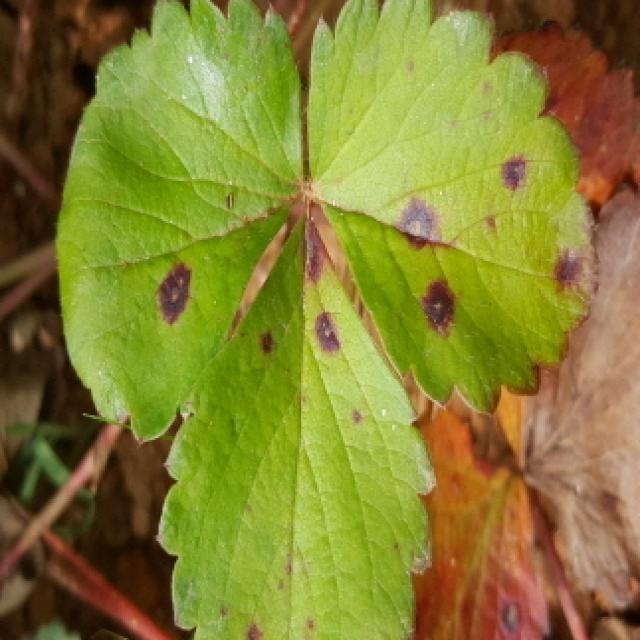Leaf Spot: (306, 0, 601, 418), (155, 213, 438, 640), (56, 0, 308, 445), (402, 379, 553, 640)
